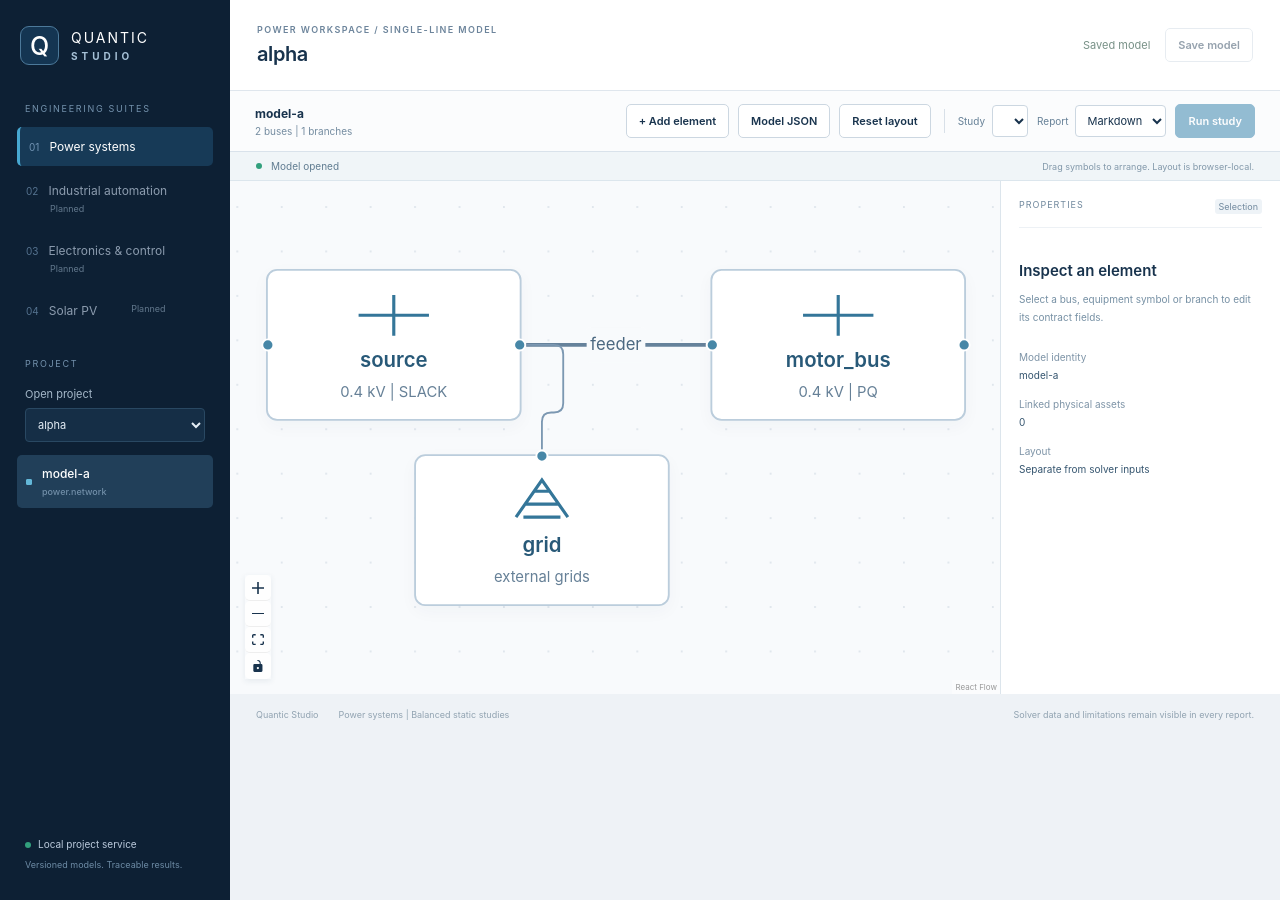
Scenario: does not request a model from the wrong project after switching
Select "alpha" in the dropdown labelled "project" at (115,425), box [25,408,205,442]
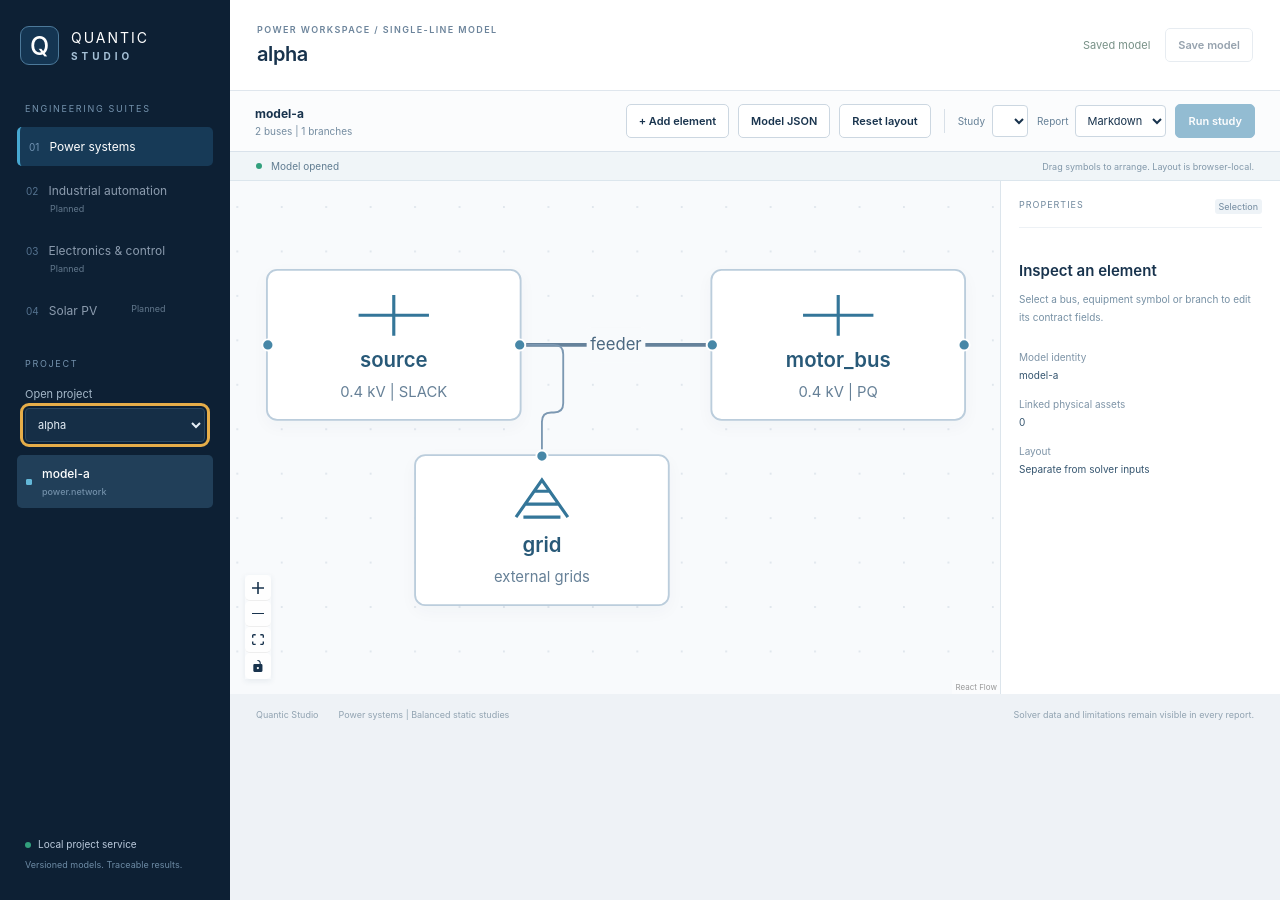
Expected: the 1st text "model-a" is shown, [255,106,304,120]
Select "beta" in the dropdown labelled "project" at (115,425), box [25,408,205,442]
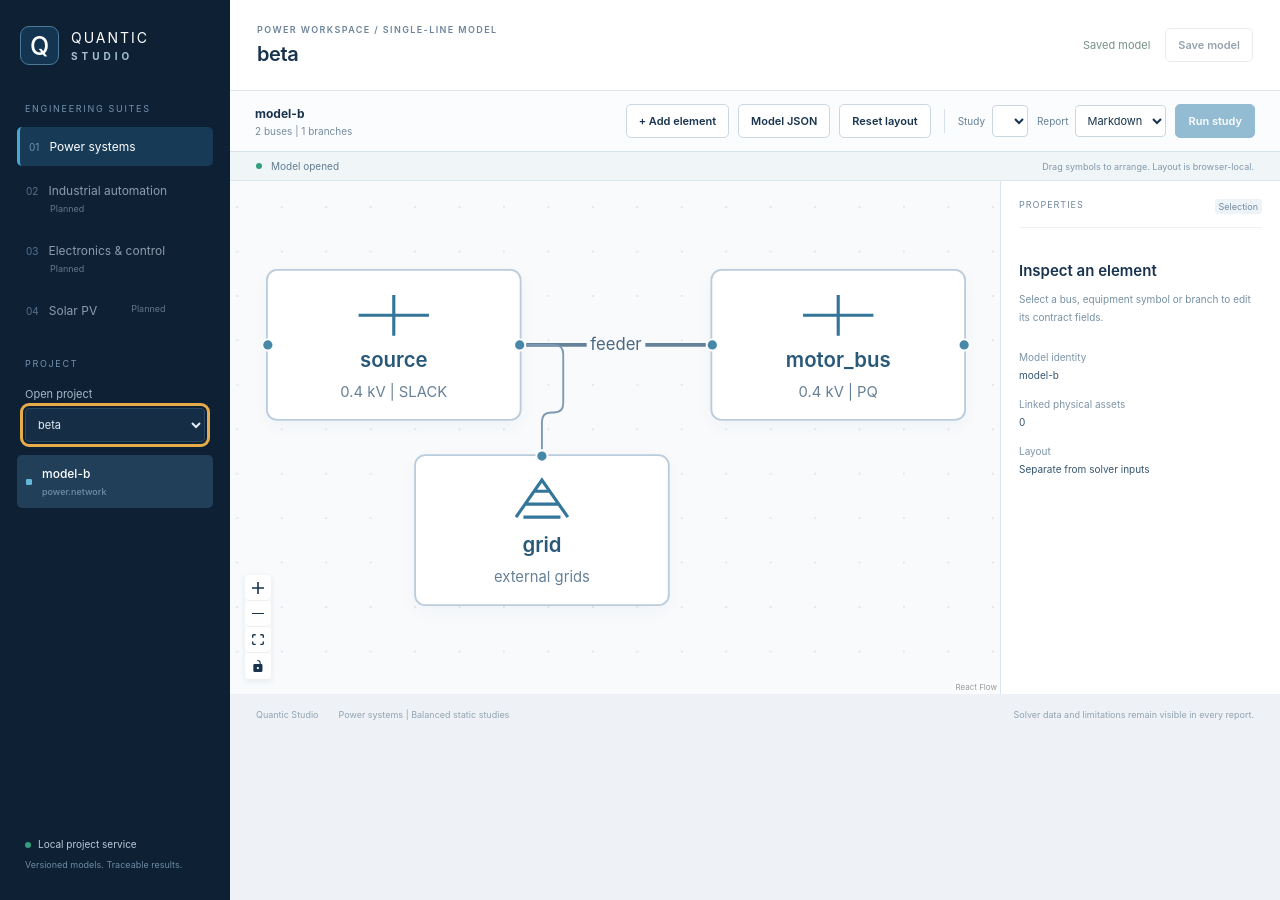
Result: the 1st text "model-b" is shown at [255,106,304,120]
